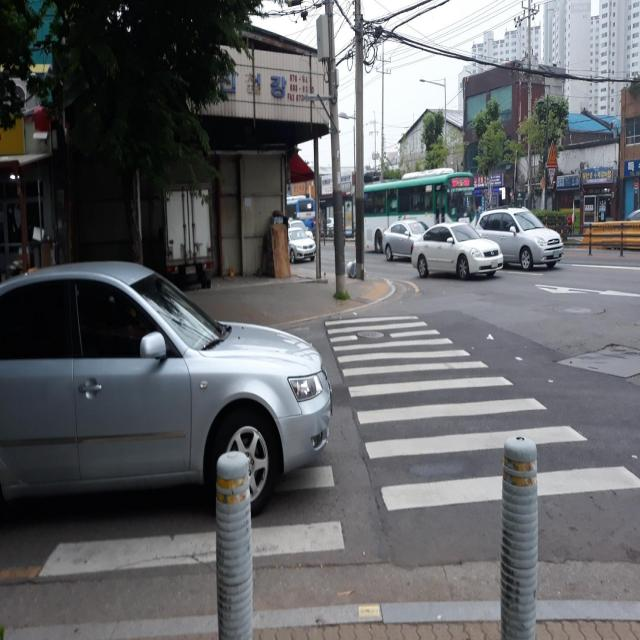횡단보도: (35, 314, 640, 581)
